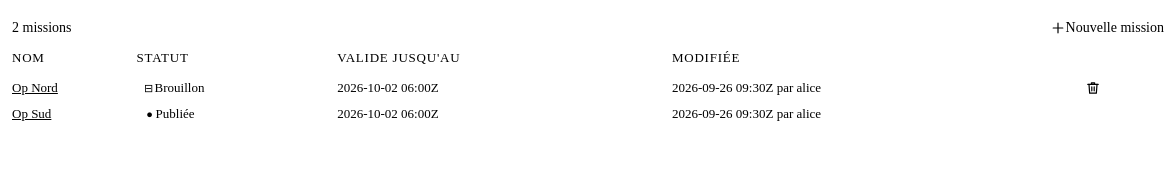
it: shows the server's reason when a deletion is refused
Click the button named "Supprimer Op Nord" at (1093, 88), box [1077,72,1109,104]
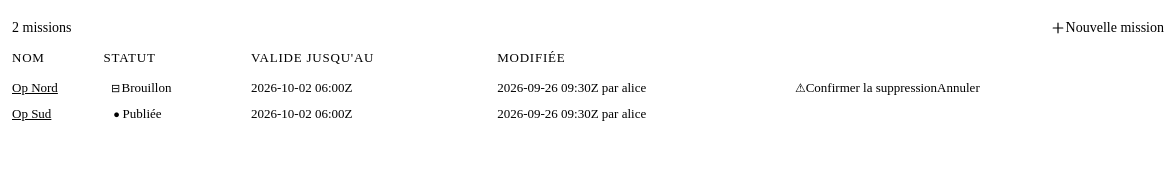
Click the button "Confirmer la suppression" at (866, 88), box [795,72,937,104]
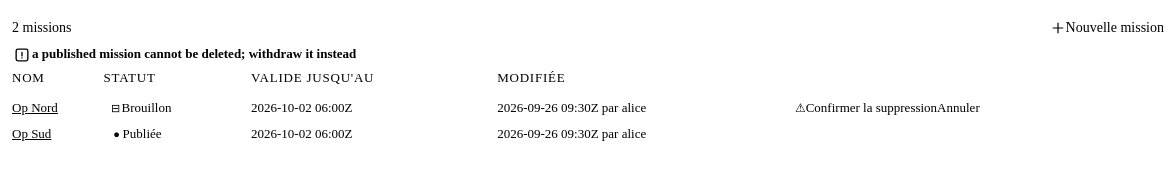
Check: the button "Confirmer la suppression" is shown, box [795,92,937,124]
Check: the button "Annuler" is shown, box [937,92,980,124]
Check: the message reads "a published mission cannot be deleted; withdraw it instead", box [32,46,356,61]
